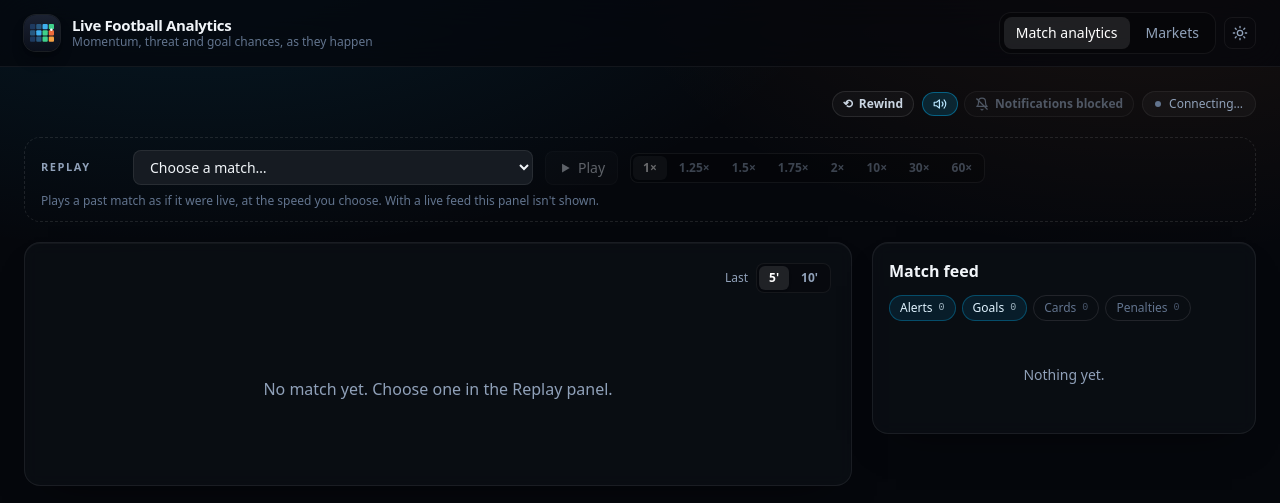
loads a match through the engine and starts its broadcast, which enables the controls
The image size is (1280, 503).
Expected: the button "Play" is disabled, [545,150,618,184]
Select "Argentina v France · FIFA World Cup Final · 2022-12-18" in the dropdown named "Match" at point(333, 168), box [133,150,533,185]
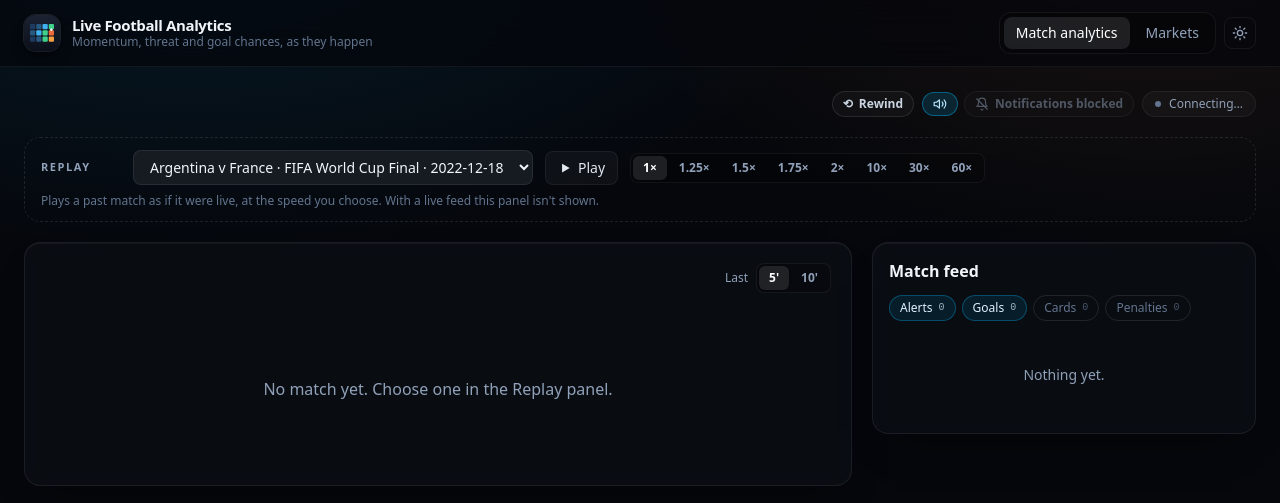
Expected: the button "Play" is enabled, [545,150,618,184]
